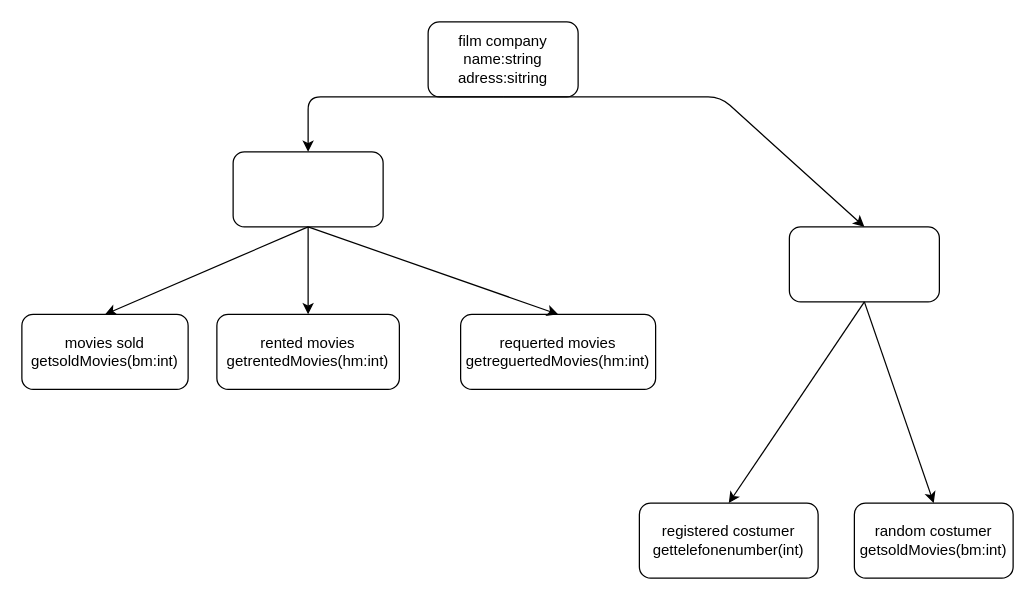
Some shapes in this 1035 by 600 pixel diagram are drawn without their labels. The shapes that lost their labels are listed below. From the top down, each one's centre as x and y in pixels, then its label:
the point at 307,189: movie name:string place:int
the point at 863,264: costumer ıp adress:ınt
